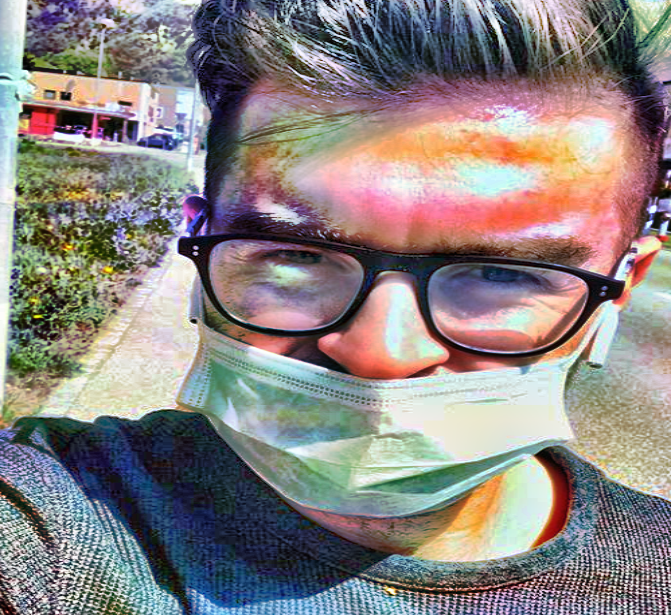mask_weared_incorrect: (170, 43, 670, 525)
